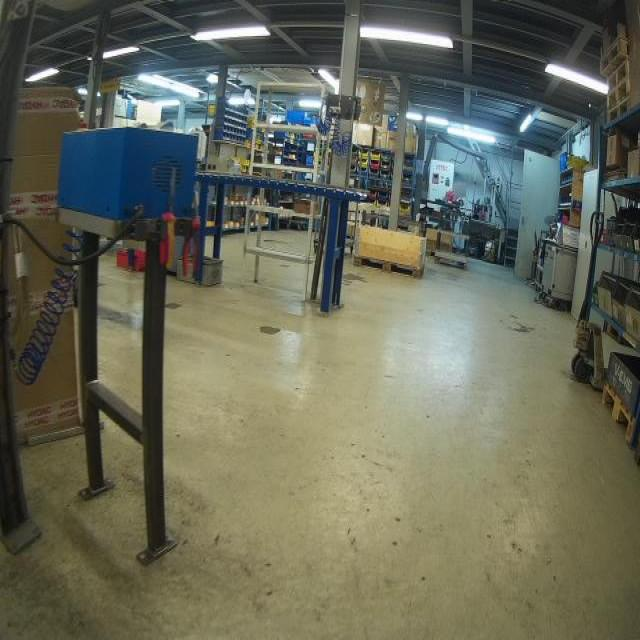pallet: (599, 382, 634, 445), (352, 253, 425, 280), (602, 39, 622, 67), (609, 61, 628, 87), (608, 97, 632, 116), (607, 81, 629, 99)
pallet_truck: (567, 205, 622, 400)
